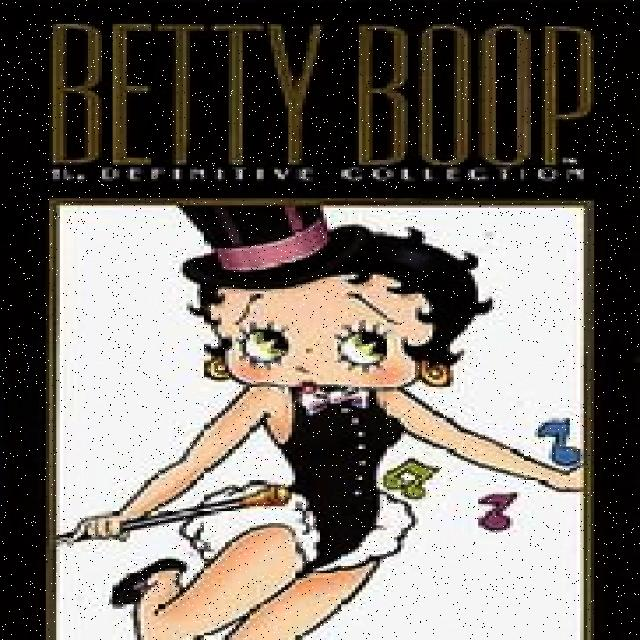movie-judul: (46, 12, 608, 193)
picture: (51, 194, 590, 638)
